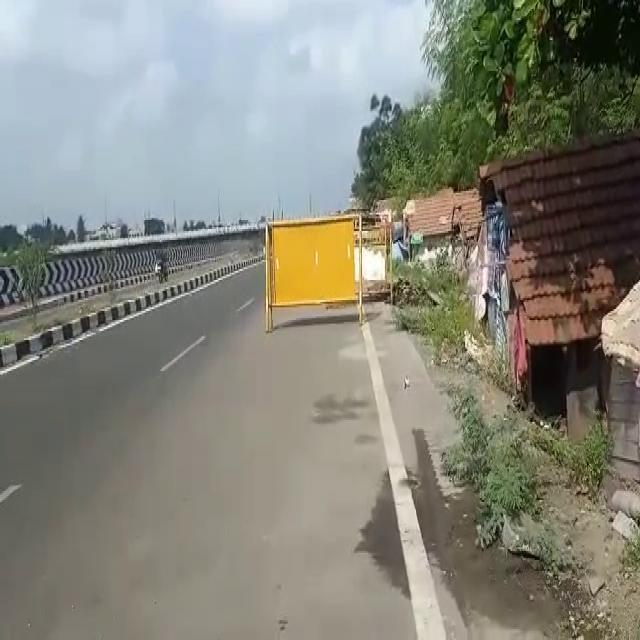fallen_object: (215, 192, 394, 345)
